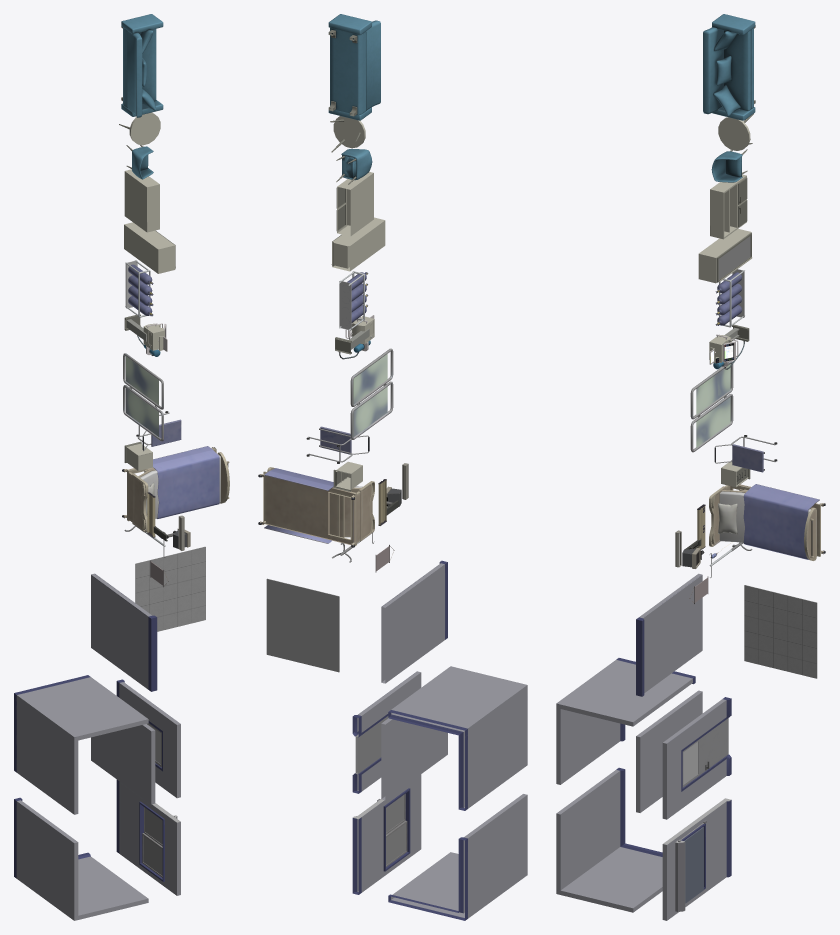
3 views of the same model, side by side, from view 1: azimuth 30°, elevation 25°; view 2: azimuth 150°, elevation 25°; view 3: azimuth 330°, elevation 25° (orthographic). The views are drawn at different scales.
Visible parts, largest first — view 1: Wall2-material, Wall1-material, Bed-material, Wall5-material, WindowWall-material, Ground-material, Wall3-material, Sofa-material, DoorWall-material, Curtain-material, Cabinet2-material, Cabinet1-material (+6 smaller); view 2: Wall2-material, Wall1-material, Bed-material, Ground-material, WindowWall-material, Wall5-material, Sofa-material, Wall3-material, Curtain-material, DoorWall-material, Cabinet2-material, Cabinet1-material (+7 smaller); view 3: Wall1-material, Wall2-material, Bed-material, Ground-material, WindowWall-material, Wall5-material, Sofa-material, DoorWall-material, Wall3-material, Curtain-material, Cabinet2-material, Door-material (+7 smaller).
Boxes of the visible parts, bbox=[...] form: Wall2-material: bbox=[14, 675, 148, 814]; Wall1-material: bbox=[14, 797, 148, 920]; Bed-material: bbox=[122, 446, 229, 532]; Wall5-material: bbox=[91, 573, 157, 691]; WindowWall-material: bbox=[116, 779, 180, 895]; Ground-material: bbox=[135, 546, 205, 631]; Wall3-material: bbox=[91, 724, 155, 804]; Sofa-material: bbox=[121, 14, 163, 117]; DoorWall-material: bbox=[116, 679, 180, 798]; Curtain-material: bbox=[123, 353, 163, 441]; Cabinet2-material: bbox=[124, 169, 159, 232]; Cabinet1-material: bbox=[124, 222, 175, 273]; Wall2-material: bbox=[388, 666, 527, 810]; Wall1-material: bbox=[388, 794, 527, 920]; Bed-material: bbox=[258, 467, 374, 547]; Ground-material: bbox=[266, 578, 339, 672]; WindowWall-material: bbox=[352, 774, 421, 894]; Wall5-material: bbox=[381, 560, 447, 683]; Sofa-material: bbox=[328, 14, 380, 120]; Wall3-material: bbox=[381, 718, 447, 800]; Curtain-material: bbox=[350, 348, 393, 439]; DoorWall-material: bbox=[352, 671, 421, 793]; Cabinet2-material: bbox=[336, 171, 373, 236]; Cabinet1-material: bbox=[332, 217, 385, 271]; Wall1-material: bbox=[556, 767, 662, 912]; Wall2-material: bbox=[556, 658, 695, 784]; Bed-material: bbox=[709, 484, 825, 560]; Ground-material: bbox=[744, 585, 817, 678]; WindowWall-material: bbox=[662, 798, 731, 920]; Wall5-material: bbox=[636, 573, 702, 696]; Sofa-material: bbox=[703, 14, 755, 120]; DoorWall-material: bbox=[662, 697, 731, 819]; Wall3-material: bbox=[636, 690, 702, 812]; Curtain-material: bbox=[690, 361, 733, 452]; Cabinet2-material: bbox=[710, 174, 747, 239]; Door-material: bbox=[682, 718, 728, 787].
Size of the model in its own units: 0.9374 by 3.7 by 0.491.
30 materials, 30 textured.
